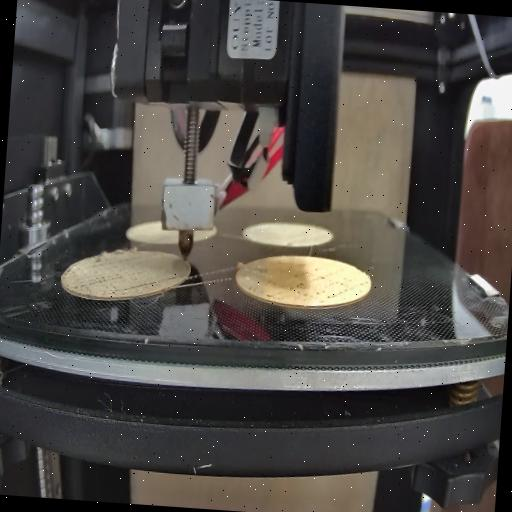under_extrusion: (64, 254, 183, 302), (287, 262, 371, 304), (245, 272, 278, 306)
